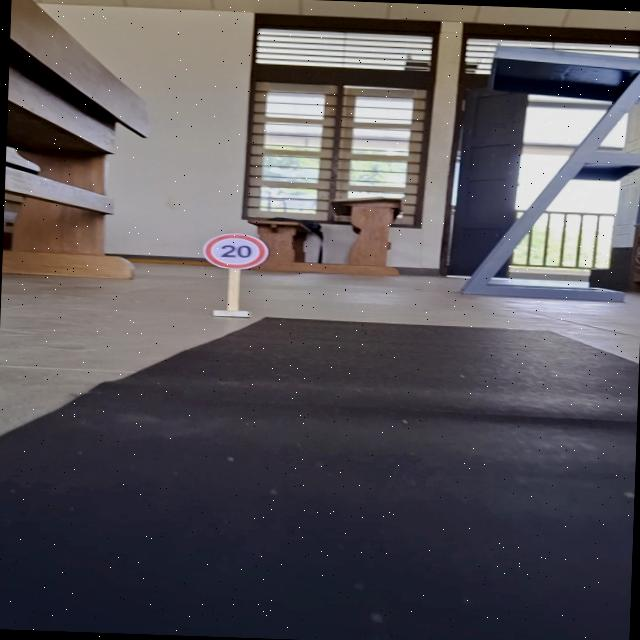Speed20: (200, 230, 272, 271)
